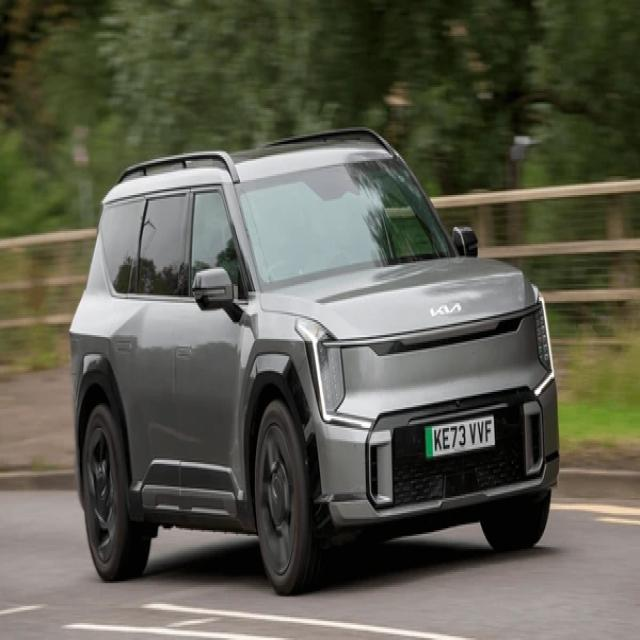kia: (429, 300, 461, 320)
